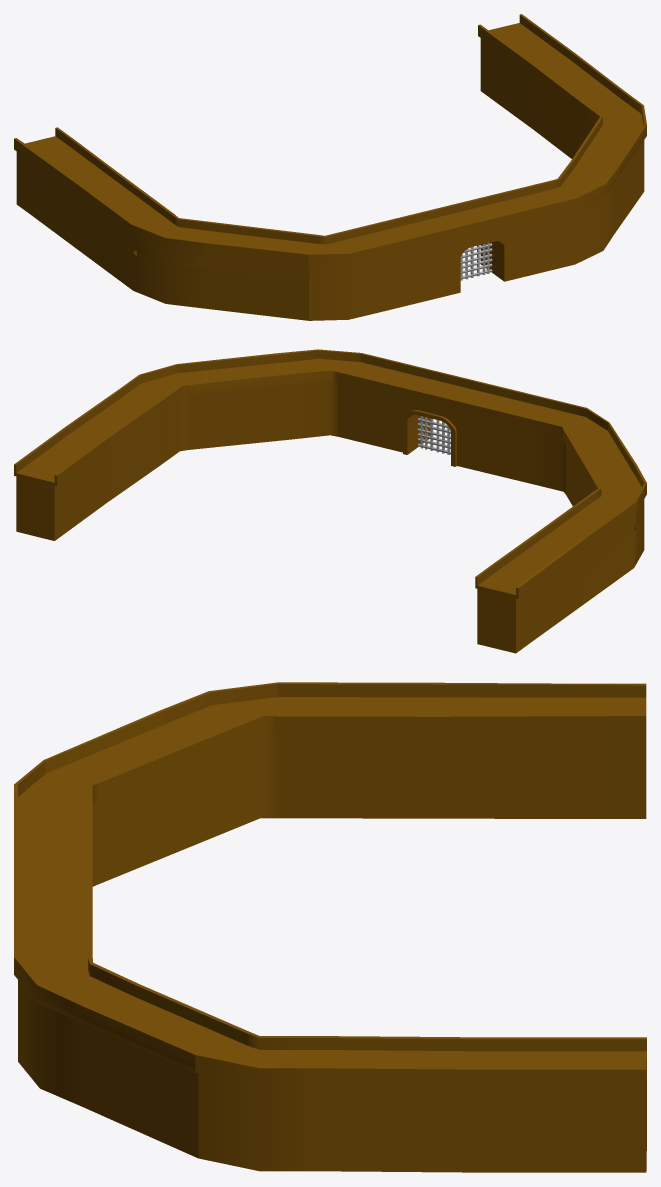
Rendered from entranceFortGated.fbx.
3 views of the same model, one above another, from view 1: azimuth 30°, elevation 25°; view 2: azimuth 150°, elevation 25°; view 3: azimuth 270°, elevation 25° (orthographic). The views are drawn at different scales.
Parts seen in each view (by area): view 1: entranceGated2; view 2: entranceGated2; view 3: entranceGated2.
Boxes of the visible parts, x1,y1,x2,y2 form: entranceGated2: (14,14,646,320); entranceGated2: (14,349,646,653); entranceGated2: (14,682,646,1172).
Size of the model in its own units: 32.85 by 4.15 by 22.69.
